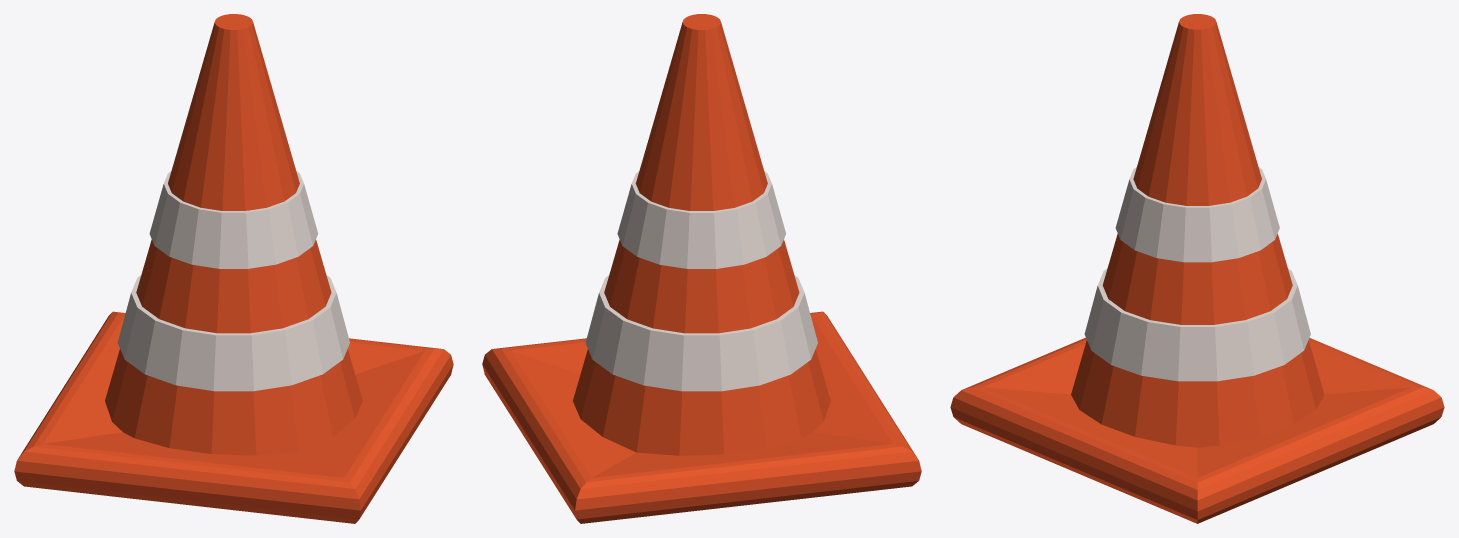
The picture shows the model from 3 angles, left to right: view 1: azimuth 30°, elevation 25°; view 2: azimuth 150°, elevation 25°; view 3: azimuth 270°, elevation 25°; orthographic projection. The views are drawn at different scales.
Parts seen in each view (by area): view 1: Cone; view 2: Cone; view 3: Cone.
Part boxes in pixels (<box>): Cone: <box>14,14,453,523</box>; Cone: <box>482,14,921,523</box>; Cone: <box>950,14,1444,523</box>.
Bounding box in the file's own units: 560 × 507 × 560.
